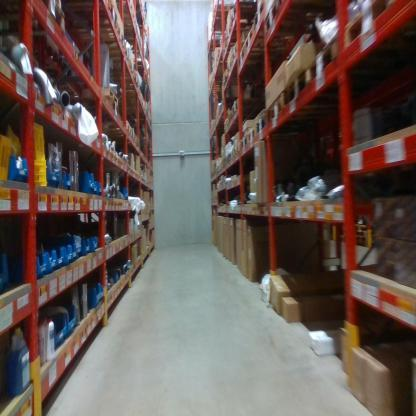pallets: (237, 93, 289, 156)
